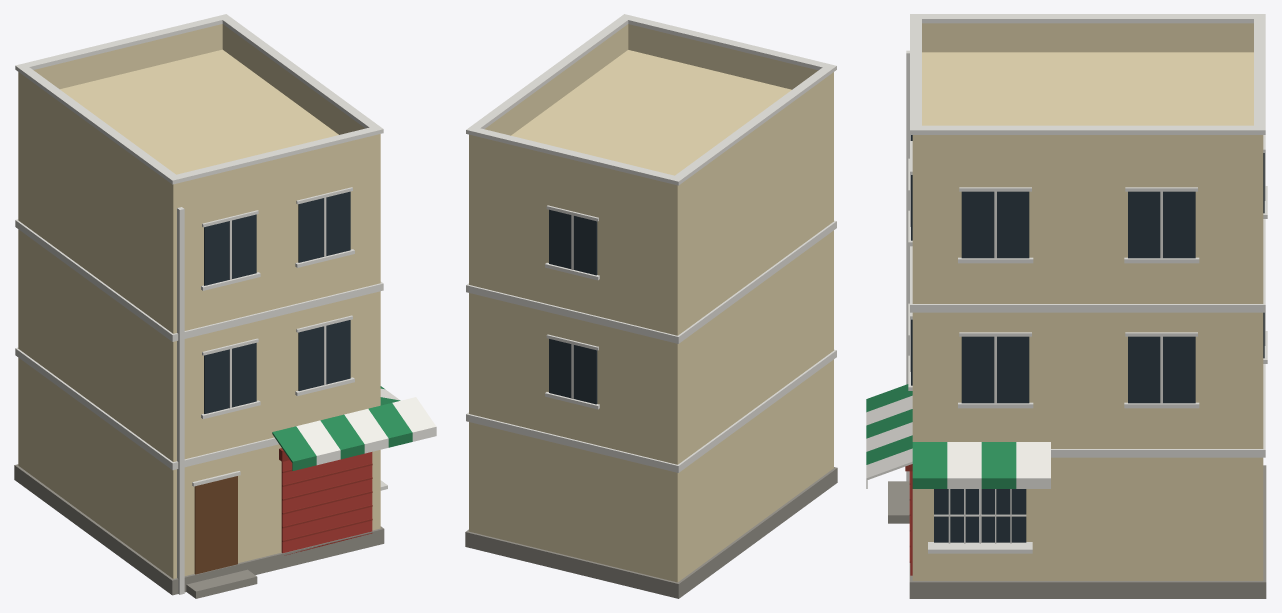
Rendered from BAY_F_Corner_A.glb.
3 views of the same model, side by side, from view 1: azimuth 30°, elevation 25°; view 2: azimuth 150°, elevation 25°; view 3: azimuth 270°, elevation 25° (orthographic). The views are drawn at different scales.
Visible parts, largest first — view 1: BAY_F_Corner_A; view 2: BAY_F_Corner_A; view 3: BAY_F_Corner_A.
Part boxes in pixels (<box>): BAY_F_Corner_A: <box>14,14,436,598</box>; BAY_F_Corner_A: <box>465,14,837,598</box>; BAY_F_Corner_A: <box>866,14,1267,598</box>.
Size of the model in its own units: 5.2 by 8.4 by 6.52.
Materials: 1 (1 with a texture image).
